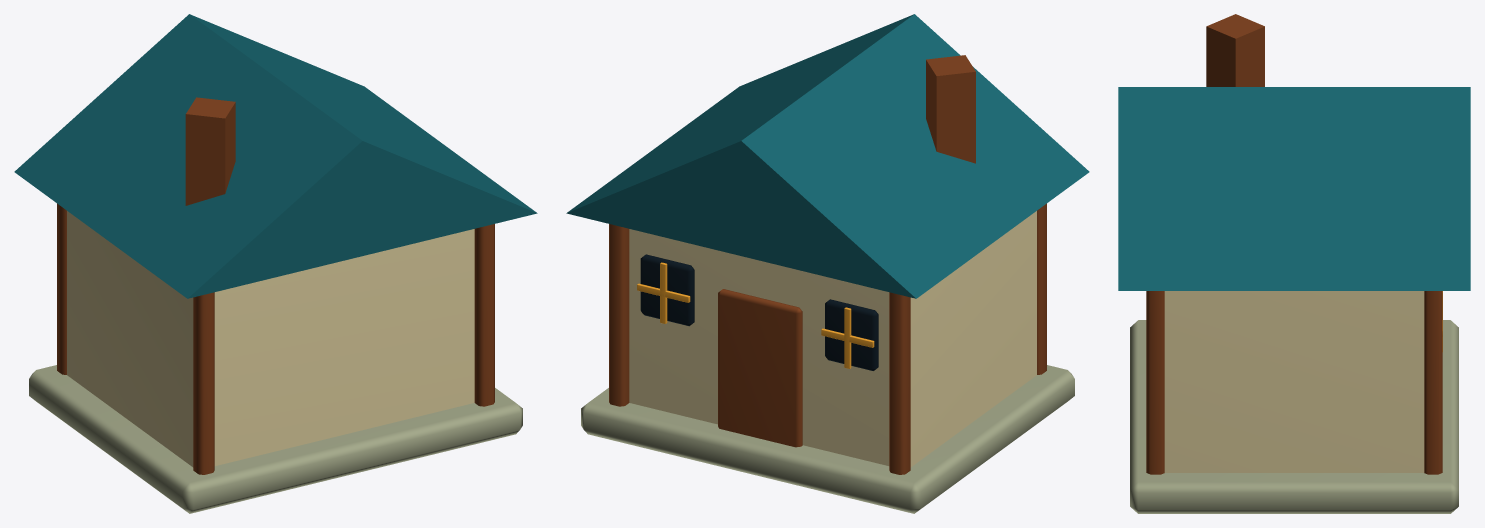
Rendered from workshop.glb.
3 views of the same model, side by side, from view 1: azimuth 30°, elevation 25°; view 2: azimuth 150°, elevation 25°; view 3: azimuth 270°, elevation 25° (orthographic).
Parts seen in each view (by area): view 1: roof, walls, stonebase, chimney, timber, timber.002, timber.001; view 2: roof, walls, stonebase, door, chimney, timber.001, timber.003, window, window.001, timber; view 3: roof, walls, stonebase, chimney, timber.002, timber.003.
Boxes of the visible parts, x1,y1,x2,y2 form: roof: (14, 14, 537, 298); walls: (67, 211, 474, 467); stonebase: (29, 365, 522, 513); chimney: (185, 97, 235, 205); timber: (193, 292, 214, 474); timber.002: (474, 224, 494, 406); timber.001: (57, 203, 66, 374); roof: (566, 14, 1089, 298); walls: (629, 211, 1036, 467); stonebase: (581, 365, 1074, 513); door: (718, 289, 802, 447); chimney: (926, 55, 975, 163); timber.001: (889, 292, 910, 474); timber.003: (609, 224, 629, 406); window: (825, 299, 878, 370); window.001: (640, 254, 694, 326); timber: (1037, 203, 1046, 374); roof: (1118, 87, 1470, 290); walls: (1164, 291, 1424, 472); stonebase: (1130, 320, 1458, 513); chimney: (1206, 14, 1264, 86); timber.002: (1146, 291, 1164, 474); timber.003: (1424, 291, 1442, 474).
Bounding box in the file's own units: 3.5 × 3.38 × 3.
